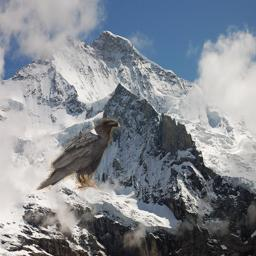Crow: (34, 117, 121, 194)
